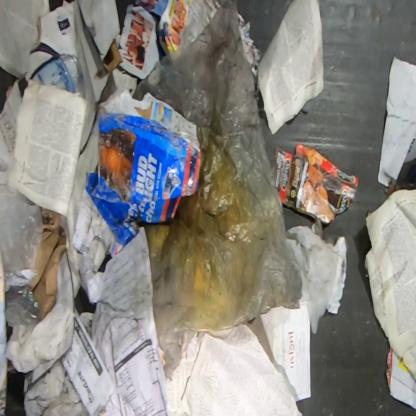cardboard: (70, 89, 203, 258), (0, 0, 125, 159), (272, 142, 360, 226), (388, 138, 416, 197)
soft_plastic: (132, 0, 303, 381), (0, 195, 43, 272), (5, 283, 39, 327)
